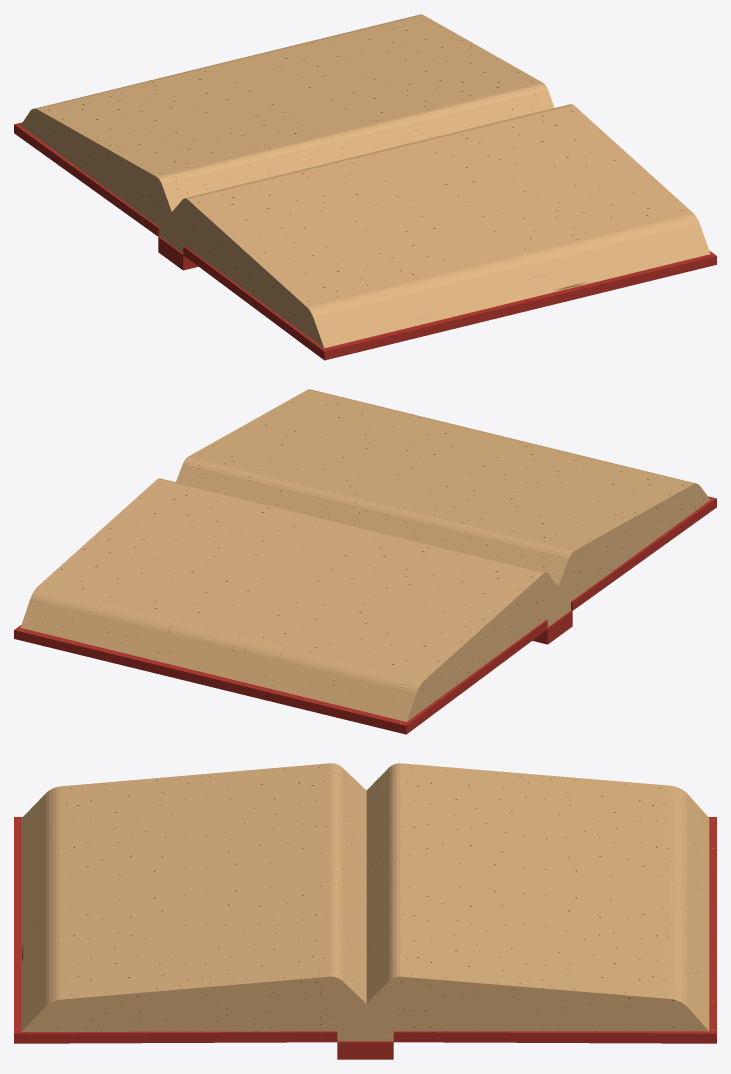
File: openBook.fbx
3 renders of one model, top to bottom at view 1: azimuth 30°, elevation 25°; view 2: azimuth 150°, elevation 25°; view 3: azimuth 270°, elevation 25°, orthographic. The views are drawn at different scales.
Visible parts, largest first — view 1: Cube.001, Cube; view 2: Cube.001, Cube; view 3: Cube.001, Cube.
Boxes of the visible parts, left/top/right/bottom form: Cube.001: left=20, top=14, right=710, bottom=348; Cube: left=14, top=122, right=716, bottom=360; Cube.001: left=20, top=389, right=710, bottom=721; Cube: left=14, top=496, right=716, bottom=734; Cube.001: left=21, top=763, right=709, bottom=1041; Cube: left=14, top=817, right=716, bottom=1059.
Bounding box in the file's own units: 1813 × 321 × 2485.
